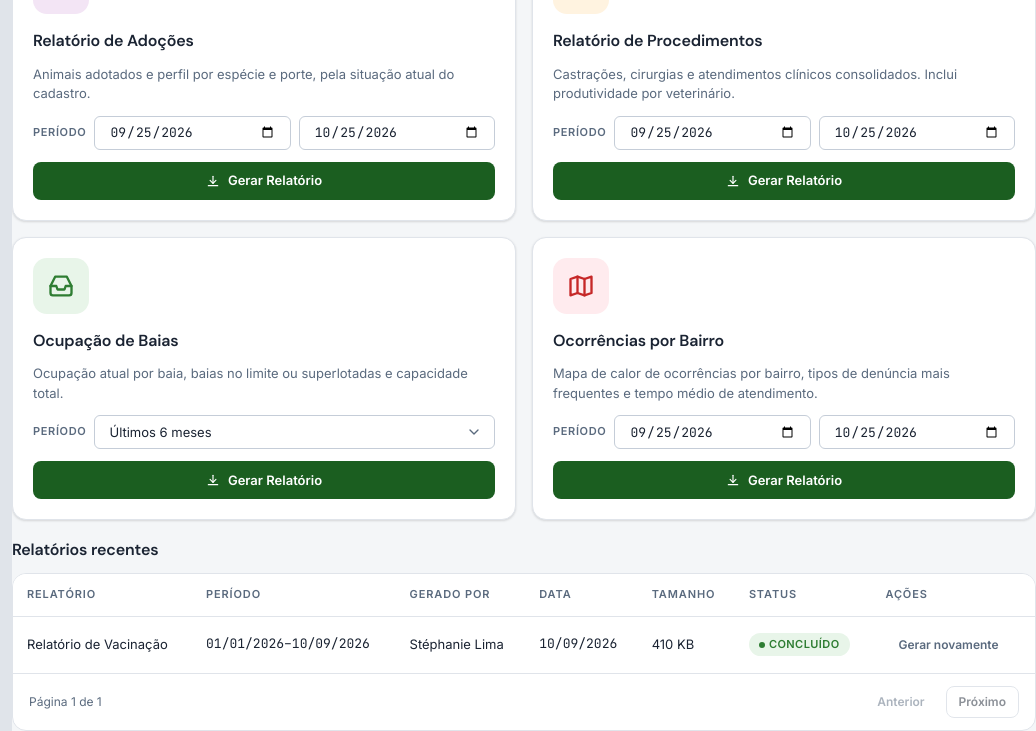
Relatorios › gera o preview de Ocupação de Baias e exibe os KPIs e a tabela
The width and height of the screenshot is (1036, 731).
(page scrolled)
Click the button "Gerar Relatório" below "Ocupação de Baias": click(264, 480) [33, 461, 495, 499]
(page scrolled)
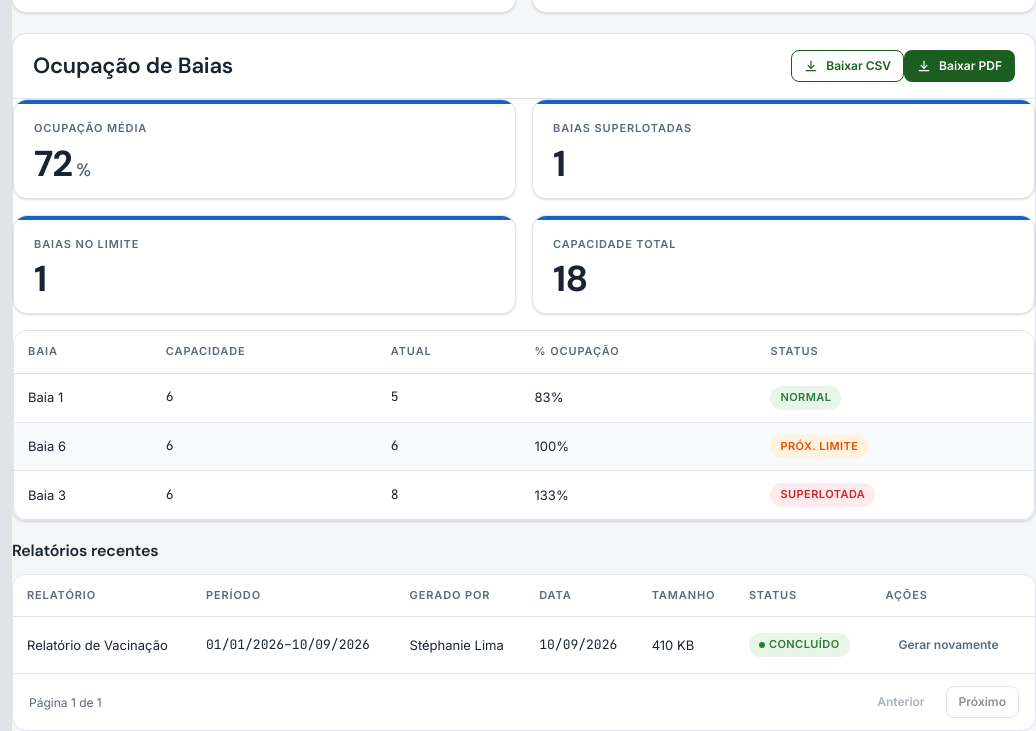
Now the text "Baia 3" is shown, box [14, 471, 152, 519]
Now the text "Superlotada" is shown, box [770, 483, 875, 507]
Now the text "Próx. limite" is shown, box [770, 434, 868, 458]
